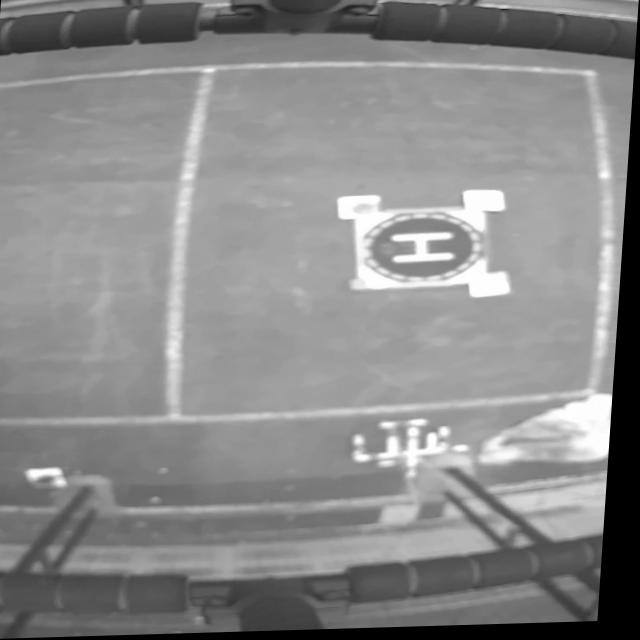Helipad: (393, 235, 456, 266)
